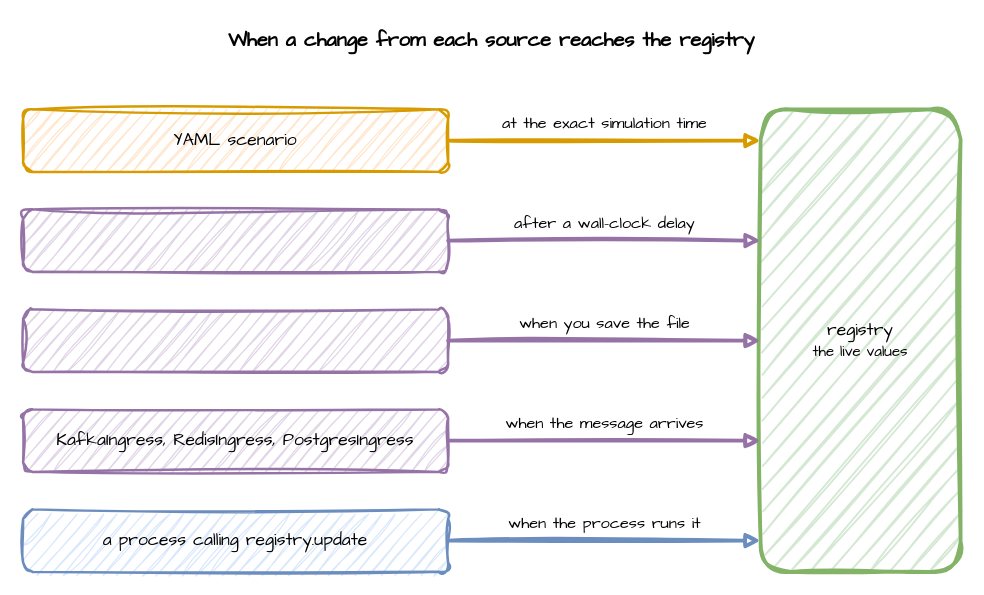
This 984x595 diagram has some shape labels left out. Here are the shapes that lost their labels. From the top down, the centre of each, then its label:
the point at 235,240: LocalIngress
the point at 235,340: FileIngress
